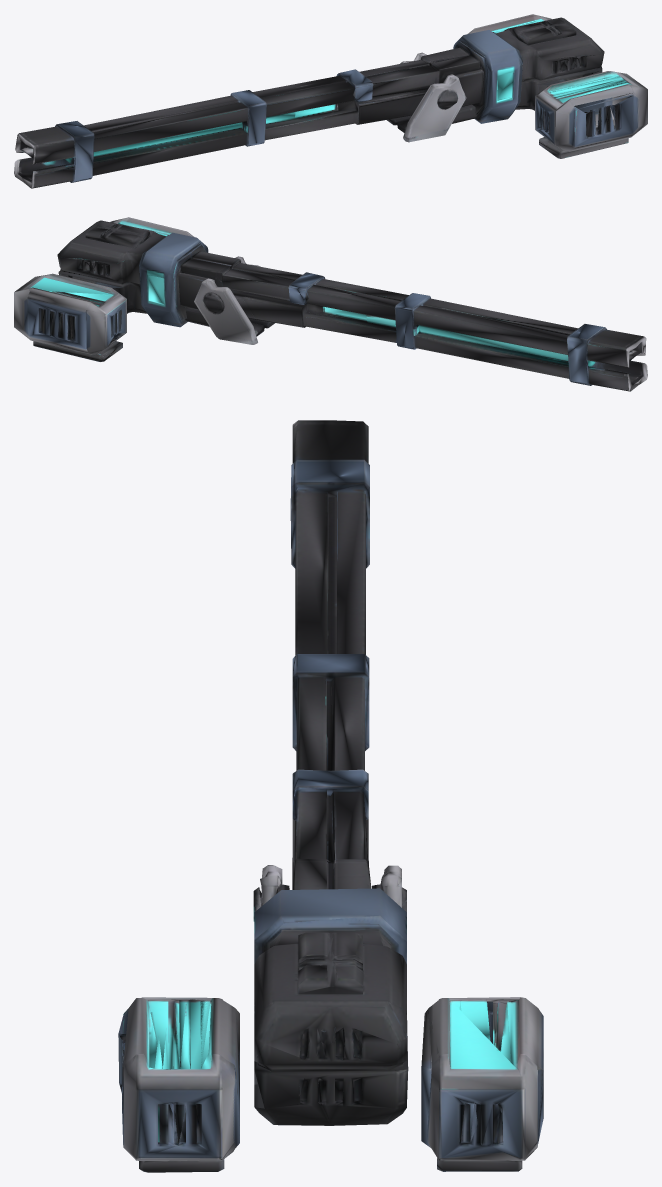
Rendered from turret_complete.glb.
3 renders of one model, top to bottom at view 1: azimuth 30°, elevation 25°; view 2: azimuth 150°, elevation 25°; view 3: azimuth 270°, elevation 25°, orthographic. The views are drawn at different scales.
Visible parts, largest first — view 1: Turret_Complete; view 2: Turret_Complete; view 3: Turret_Complete.
Part boxes in pixels (x1,y1,x2,y2): Turret_Complete: (14,14,647,188); Turret_Complete: (14,217,647,391); Turret_Complete: (118,420,543,1172).
Bounding box in the file's own units: 0.9512 × 0.1655 × 0.3037.
1 material, 1 textured.
